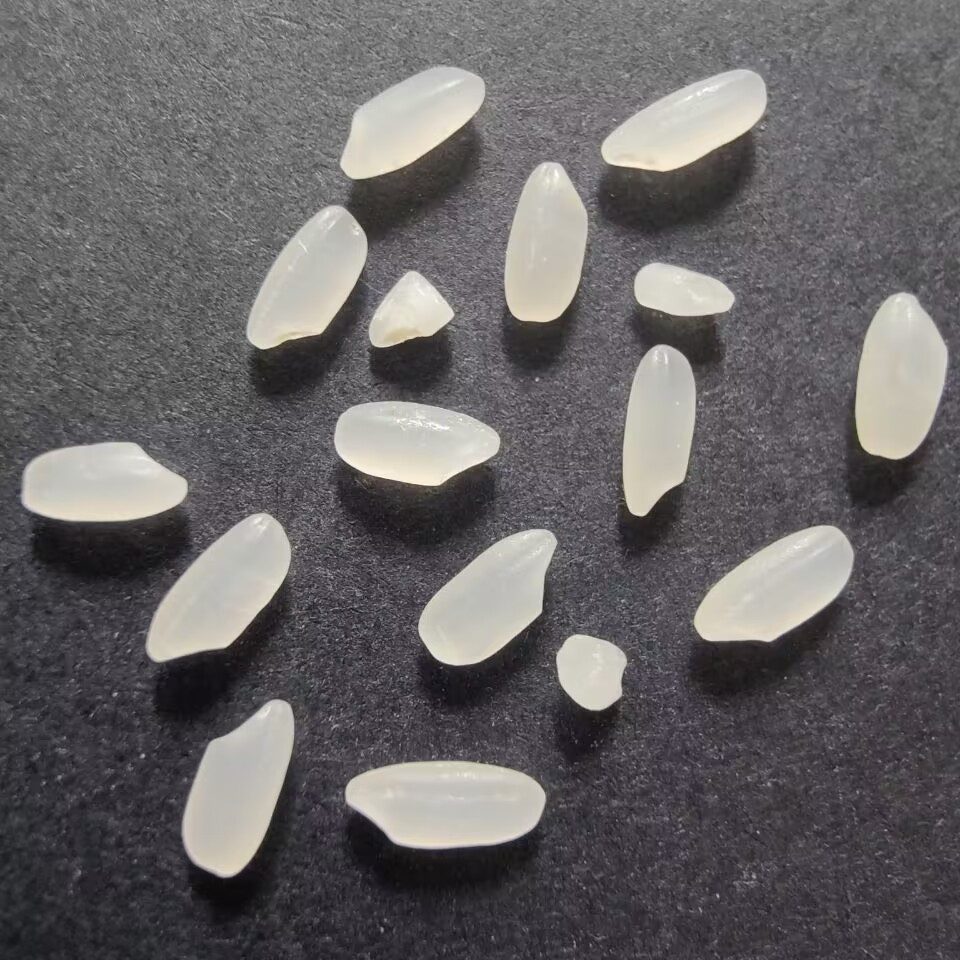broken: (362, 265, 460, 352), (627, 255, 742, 325), (548, 630, 632, 713)
rice: (136, 507, 295, 668), (176, 692, 298, 884), (687, 519, 854, 647), (413, 523, 559, 668), (337, 754, 551, 851), (244, 200, 371, 355), (595, 65, 771, 173), (337, 63, 489, 183), (849, 287, 952, 464), (15, 435, 194, 527), (496, 156, 591, 327), (327, 398, 505, 488), (619, 339, 699, 520)
